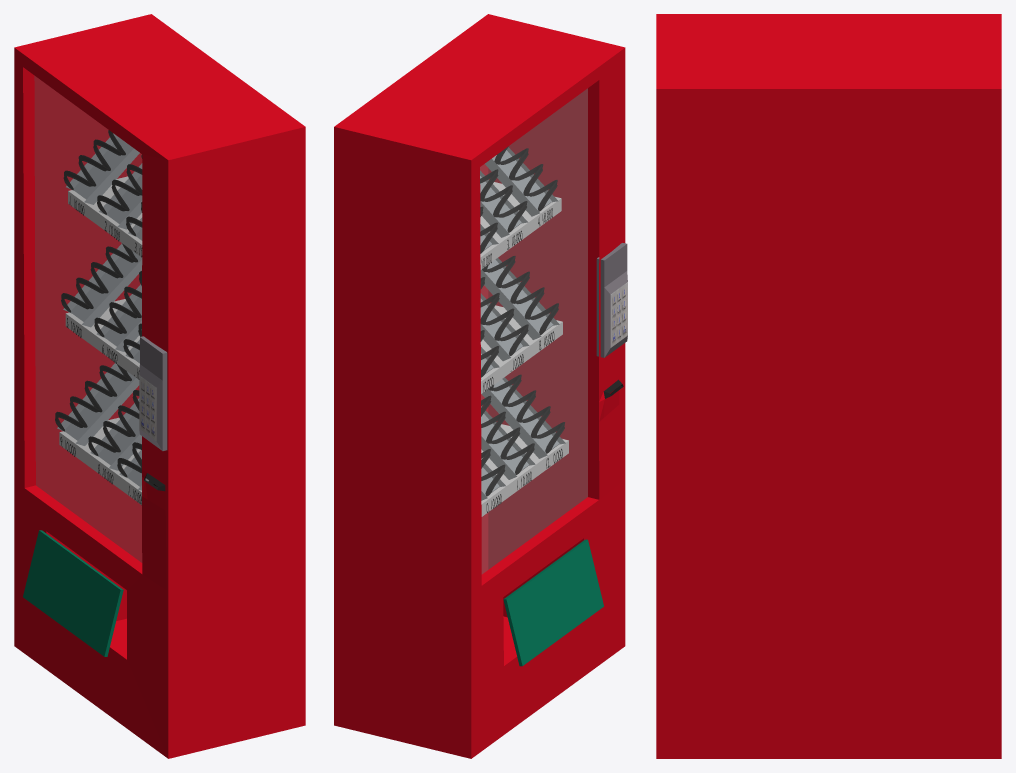
Rendered from máybánnuocfinal.fbx.
The picture shows the model from 3 angles, left to right: view 1: azimuth 30°, elevation 25°; view 2: azimuth 150°, elevation 25°; view 3: azimuth 270°, elevation 25°; orthographic projection. The views are drawn at different scales.
Visible parts, largest first — view 1: tủ, Cube, bấm, bêđỡ.012, bêđỡ.008, bêđỡ.003, ngăn.002, ngăn, ngăn.001, lòxo.008, bêđỡ.011, lòxo.012 (+6 smaller); view 2: tủ, Cube, bấm, bêđỡ.009, ngăn.002, bêđỡ.005, ngăn, ngăn.001, bêđỡ, lòxo.005, lòxo.009, bêđỡ.010 (+6 smaller); view 3: tủ.
Boxes of the visible parts, x1,y1,x2,y2 form: tủ: [14, 14, 305, 758]; Cube: [23, 530, 123, 656]; bấm: [139, 336, 167, 450]; bêđỡ.012: [57, 363, 139, 445]; bêđỡ.008: [63, 243, 142, 327]; bêđỡ.003: [66, 133, 139, 204]; ngăn.002: [59, 418, 141, 504]; ngăn: [68, 176, 142, 257]; ngăn.001: [65, 299, 139, 379]; lòxo.008: [61, 243, 137, 312]; bêđỡ.011: [90, 398, 141, 470]; lòxo.012: [55, 364, 131, 431]; tủ: [334, 14, 625, 758]; Cube: [503, 539, 603, 666]; bấm: [596, 243, 627, 357]; bêđỡ.009: [482, 377, 565, 458]; ngăn.002: [481, 424, 568, 516]; bêđỡ.005: [480, 258, 559, 339]; ngăn: [480, 182, 561, 269]; ngăn.001: [480, 305, 562, 393]; bêđỡ: [485, 147, 557, 216]; lòxo.005: [482, 256, 558, 334]; lòxo.009: [489, 374, 564, 453]; bêđỡ.010: [481, 406, 535, 479]; tủ: [656, 14, 1001, 758].
Bounding box in the file's own units: 1273 × 4591 × 2143.
